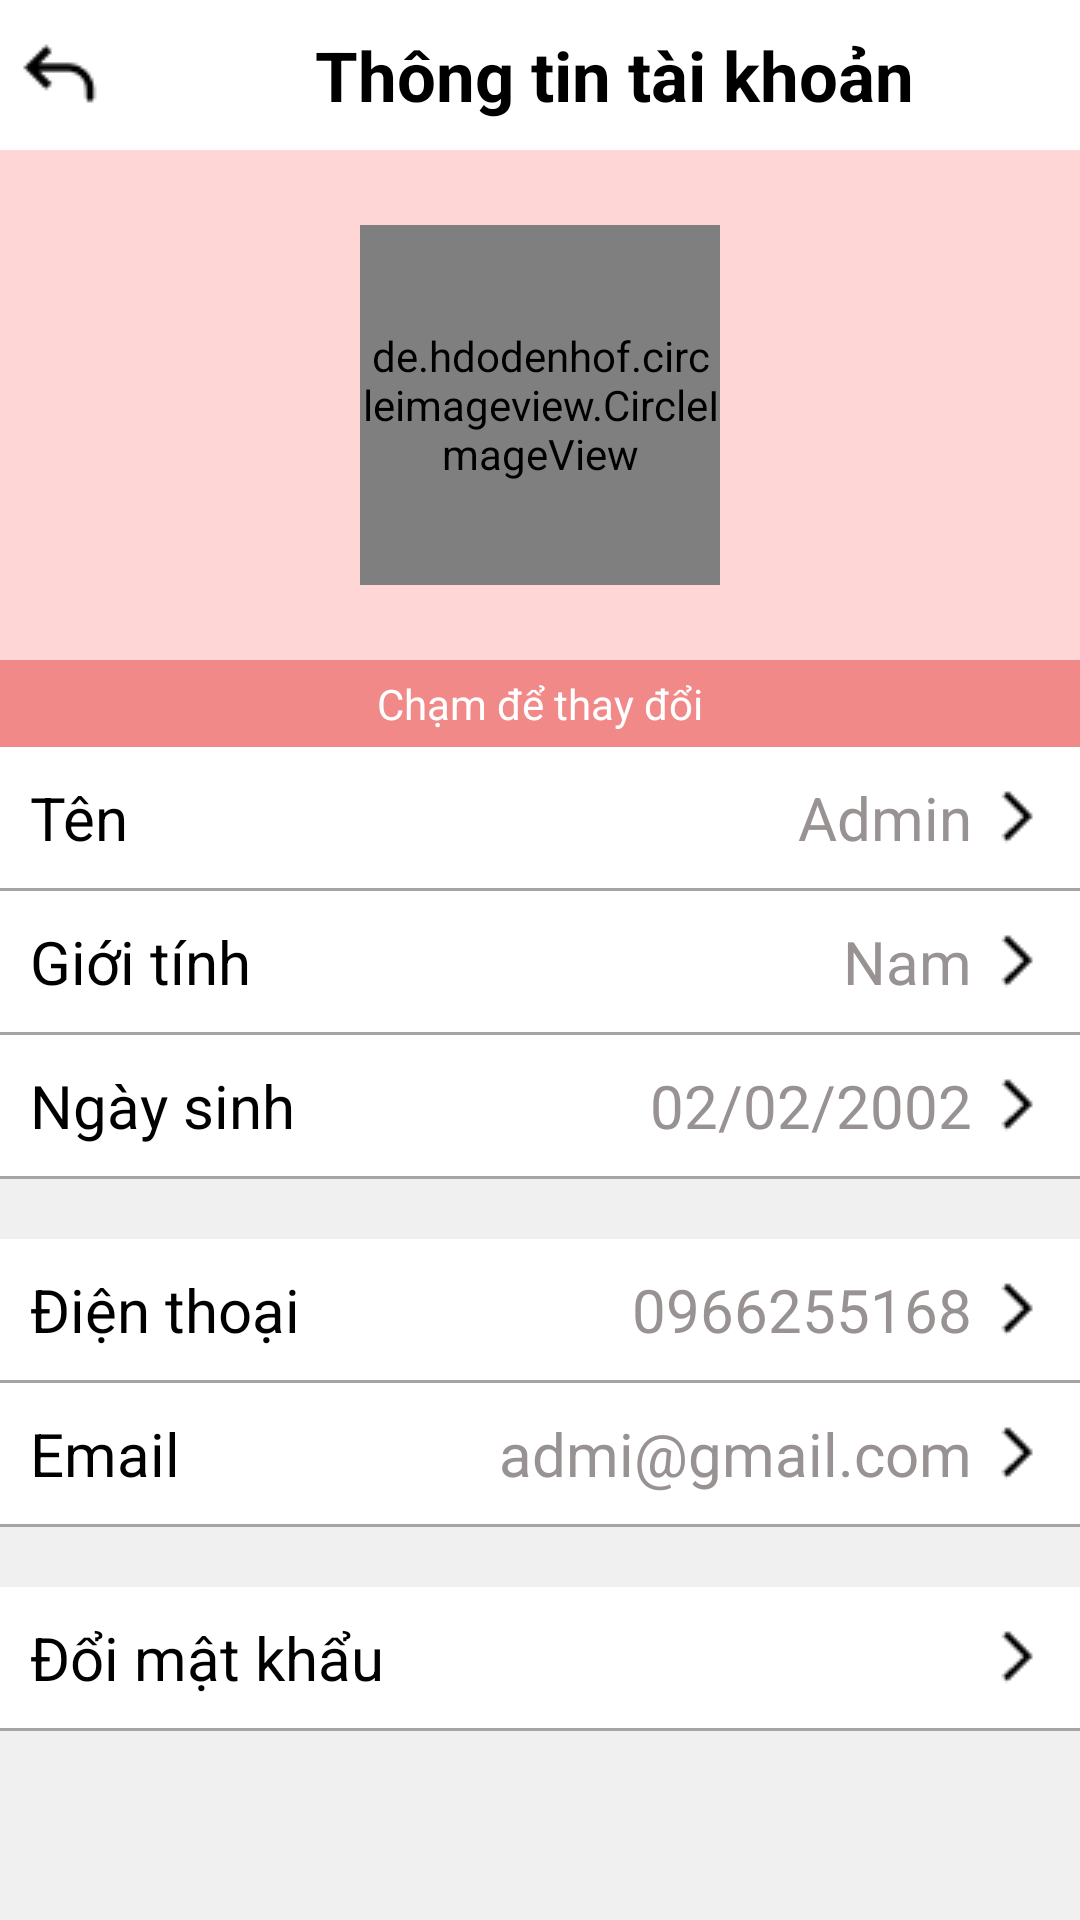

Named icons in this screenshot (1080*1920) and their centers, [x,y]:
back: [59,73]
